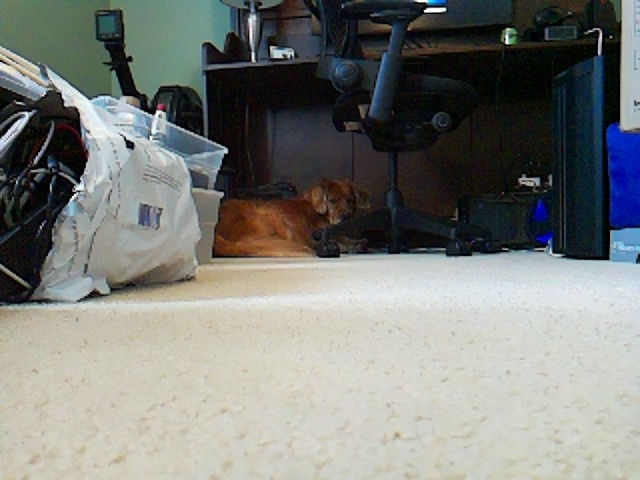Drivable Area: (2, 309, 640, 480), (209, 269, 639, 333)
Obstacle: (191, 0, 640, 263), (0, 100, 198, 302)
